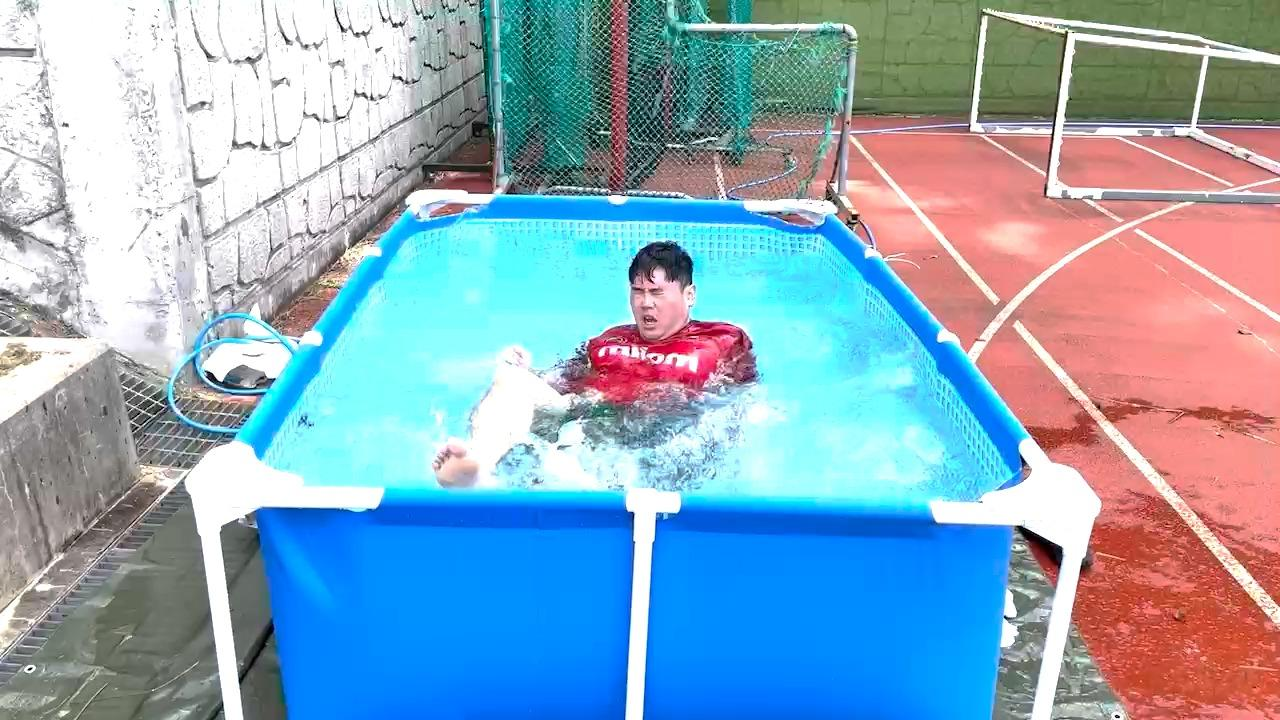Drowning: (433, 247, 771, 473)
